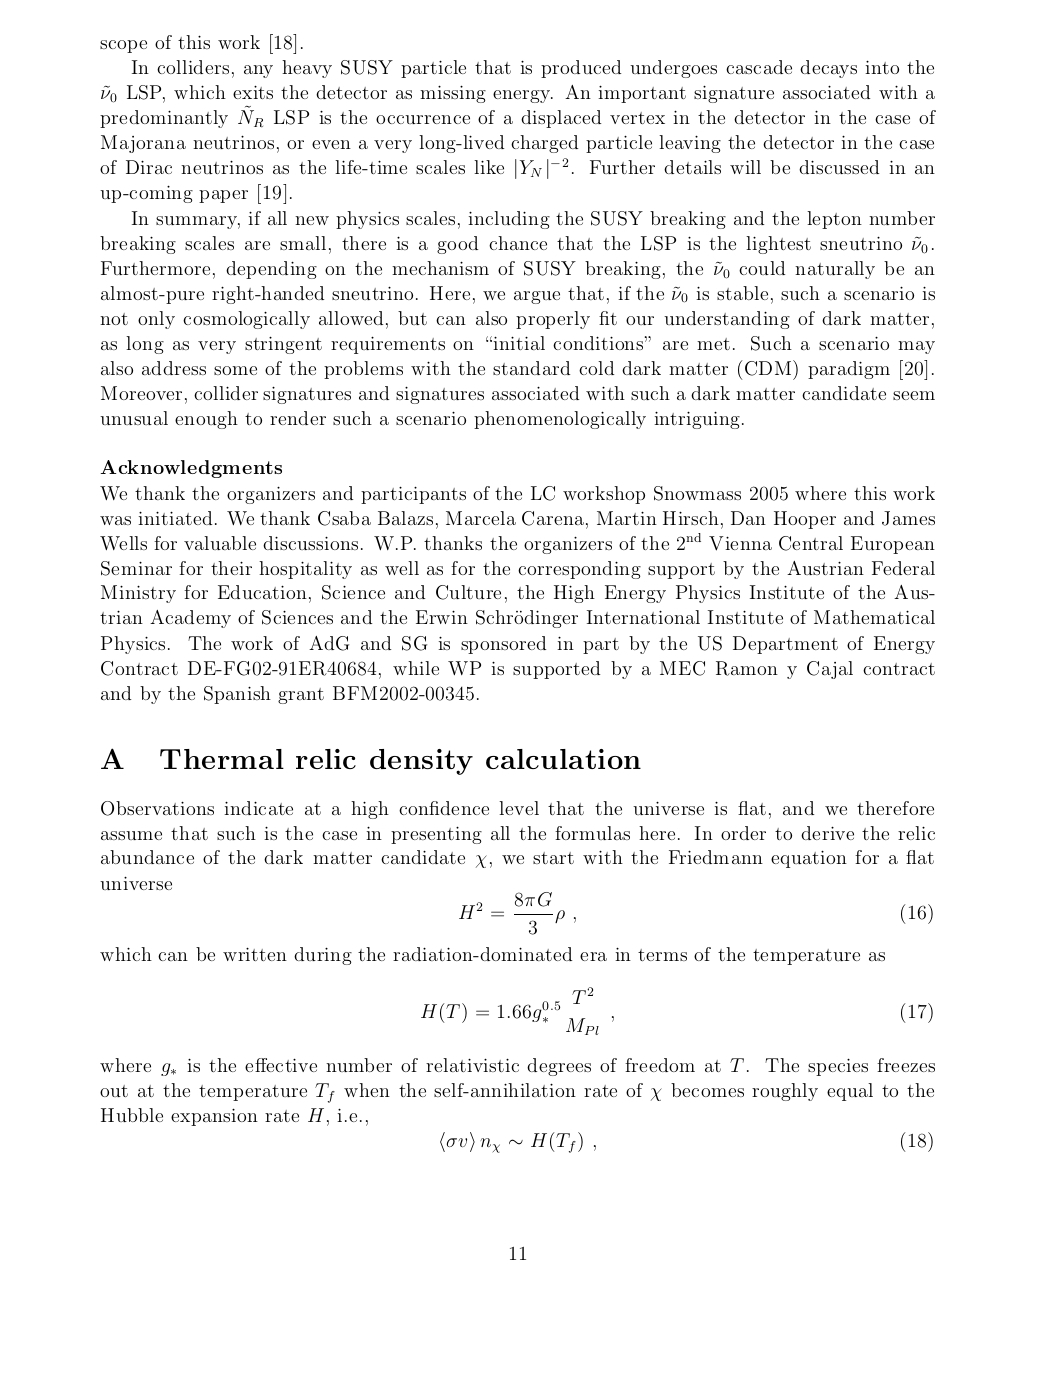formula: (421, 985, 932, 1035), (459, 892, 932, 934), (440, 1131, 932, 1153)
